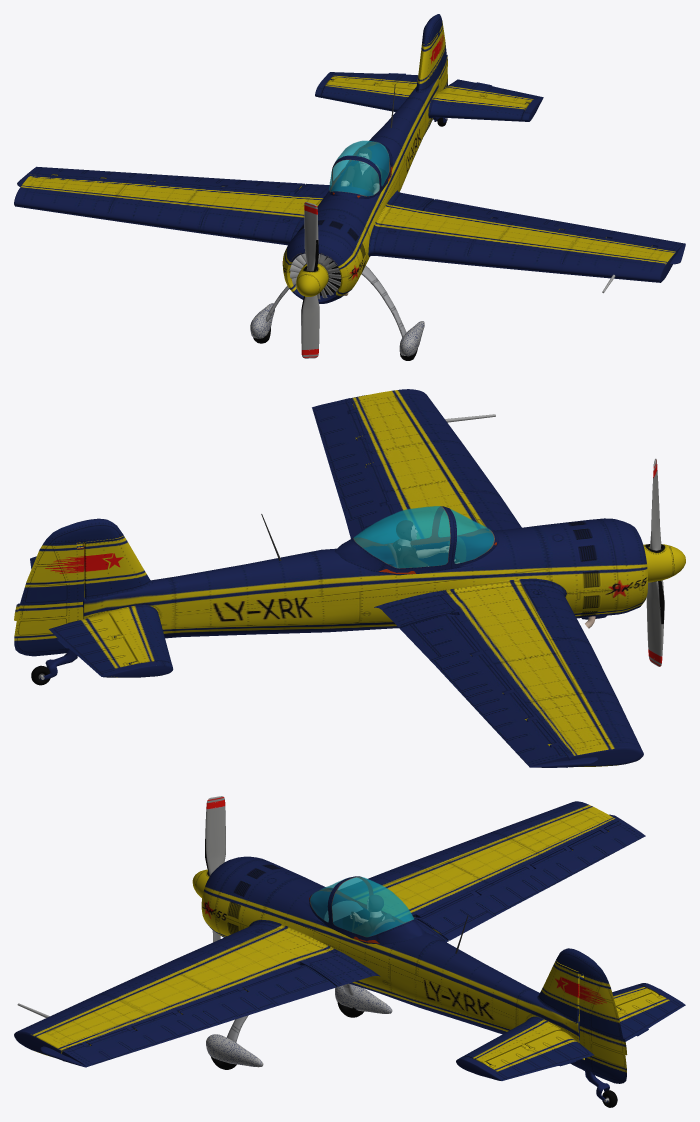
The model's file is airplane_4e88a88d.glb.
The picture shows the model from 3 angles, top to bottom: view 1: azimuth 30°, elevation 25°; view 2: azimuth 150°, elevation 25°; view 3: azimuth 270°, elevation 25°; orthographic projection. The views are drawn at different scales.
Visible parts, largest first — view 1: krilo_K05-FACES, krilo_K06-FACES, fuzel_H02-FACES (×2), kabina_1-FACES (×2), eleron-FACES, eleron01-FACES, kabina_02-FACES, gor-FACES, gor01-FACES, gor_rul02-FACES, gor_rul03-FACES, Box02-FACES (+7 smaller); view 2: fuzel_H02-FACES (×2), krilo_K06-FACES (×2), krilo_K05-FACES, kabina_1-FACES (×2), eleron01-FACES, Circle18-FACES, kabina_02-FACES (×2), eleron-FACES, gor_rul03-FACES (×2), kil-FACES, gor01-FACES, Box02-FACES (+2 smaller); view 3: fuzel_H02-FACES (×2), krilo_K05-FACES, krilo_K06-FACES, eleron-FACES, eleron01-FACES, kabina_1-FACES (×2), Circle18-FACES, kabina_02-FACES, gor_rul02-FACES, gor_rul03-FACES, kil-FACES, gor-FACES (+4 smaller).
Part boxes in pixels (x1,y1,x2,y2): krilo_K05-FACES: (368,190,675,282); krilo_K06-FACES: (14,175,329,245); fuzel_H02-FACES (×2): (282,76,439,303); kabina_1-FACES (×2): (329,140,392,198); eleron-FACES: (424,199,684,254); eleron01-FACES: (30,167,304,195); kabina_02-FACES: (330,141,388,195); gor-FACES: (428,93,528,121); gor01-FACES: (322,80,413,111); gor_rul02-FACES: (437,79,543,121); gor_rul03-FACES: (315,72,418,97); Box02-FACES: (301,295,319,358); fuzel_H02-FACES (×2): (83,518,647,638); krilo_K06-FACES (×2): (374,578,643,767); krilo_K05-FACES: (348,389,521,538); kabina_1-FACES (×2): (334,506,498,575); eleron01-FACES: (399,614,566,766); Circle18-FACES: (14,518,123,656); kabina_02-FACES (×2): (353,506,496,574); eleron-FACES: (312,398,398,543); gor_rul03-FACES (×2): (49,613,173,677); kil-FACES: (77,535,152,600); gor01-FACES: (108,605,171,665); Box02-FACES: (646,580,664,666); fuzel_H02-FACES (×2): (201,856,582,1069); krilo_K05-FACES: (14,920,380,1056); krilo_K06-FACES: (340,801,618,942); eleron-FACES: (63,965,336,1066); eleron01-FACES: (414,820,644,940); kabina_1-FACES (×2): (309,876,425,944); Circle18-FACES: (556,948,627,1083); kabina_02-FACES: (310,877,413,936); gor_rul02-FACES: (456,1030,594,1080); gor_rul03-FACES: (616,983,685,1041); kil-FACES: (537,960,583,1023); gor-FACES: (463,1016,561,1066).
Bounding box in the file's own units: 8.29 × 2.95 × 8.31.
Materials: 38 (15 with a texture image).
